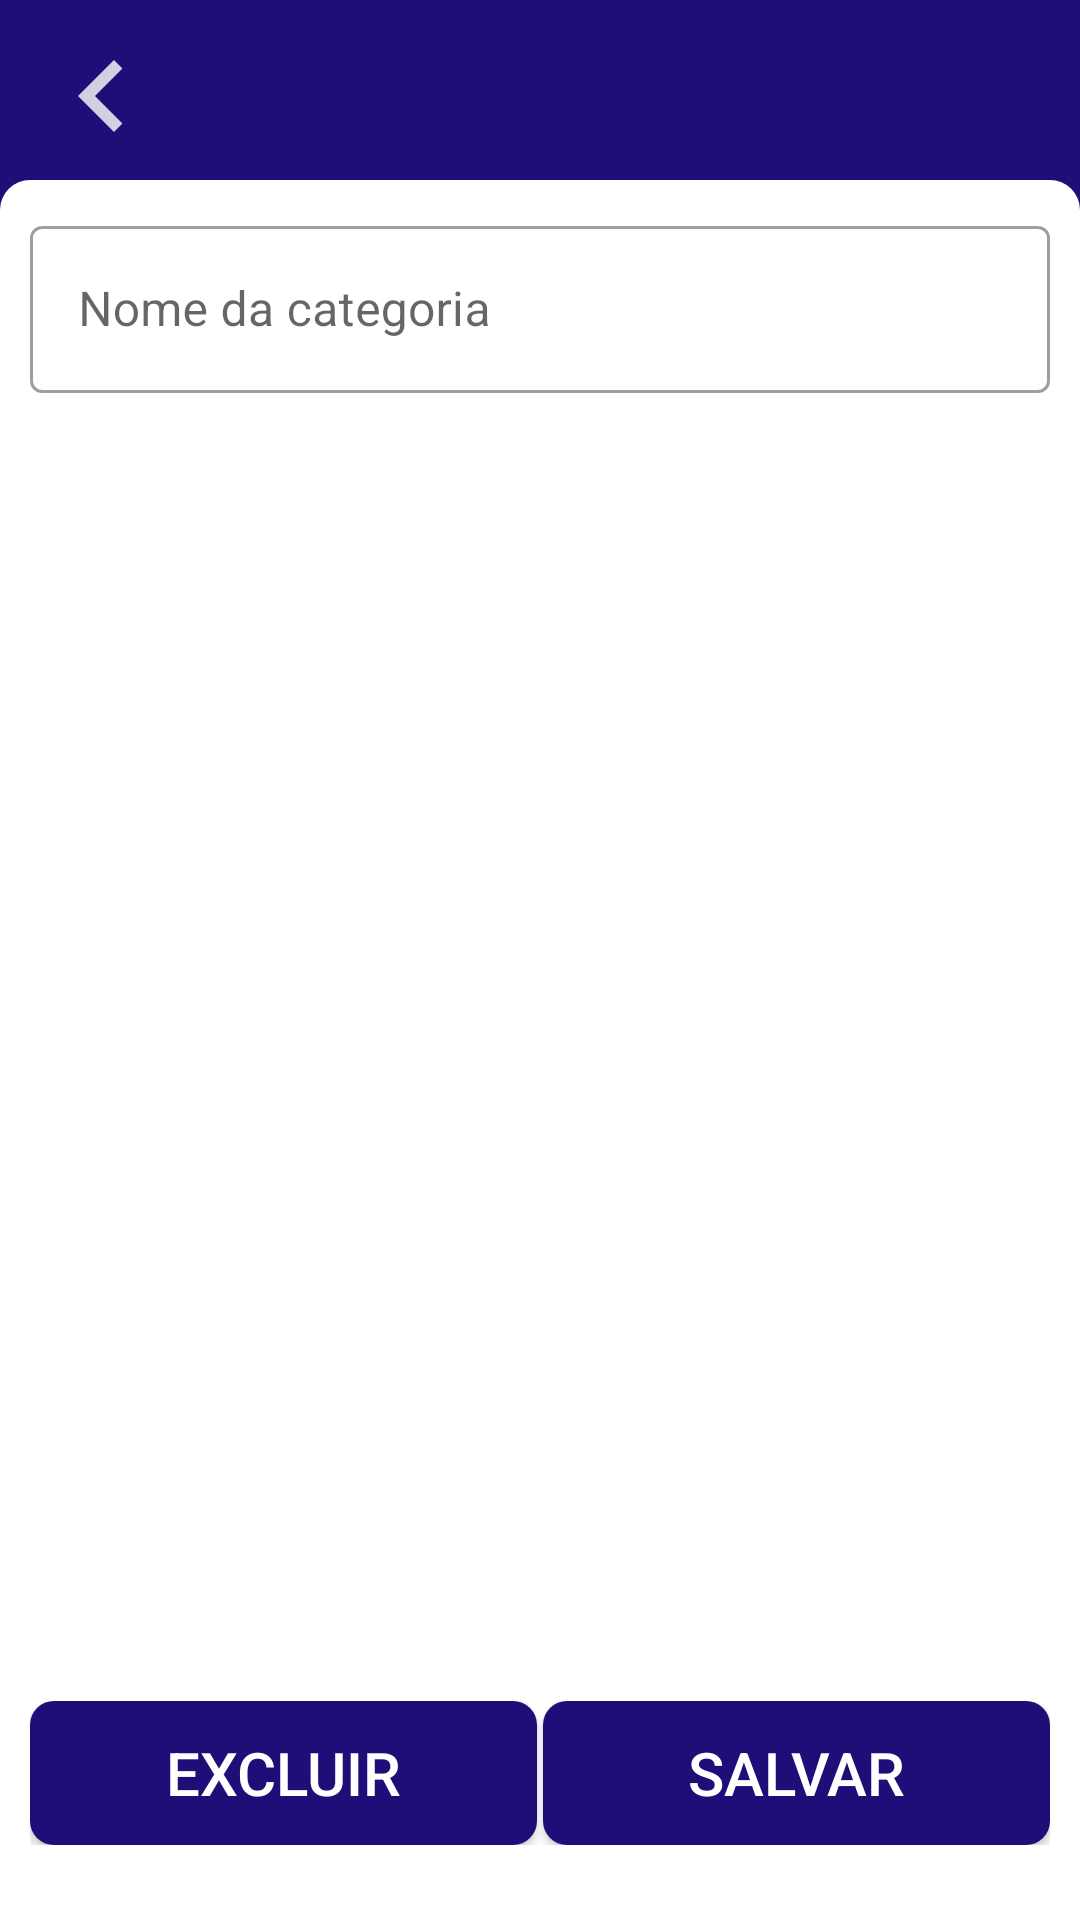

Icons on this 1080x1920 Android screen, each with its box as bbox(x1, y1, x2, y2):
voltar: bbox(78, 60, 123, 132)
